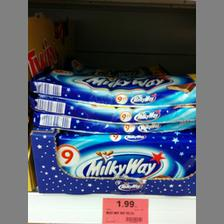Schokolade: (28, 64, 191, 108), (54, 131, 194, 179), (34, 107, 194, 133)
